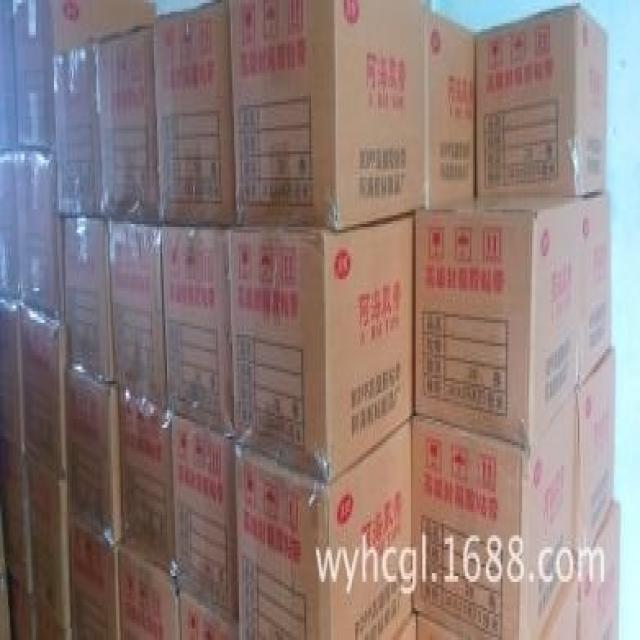box: (229, 212, 414, 483), (228, 0, 427, 230), (412, 384, 579, 640), (414, 198, 579, 451), (234, 416, 412, 640), (476, 3, 609, 198), (11, 0, 157, 151), (152, 0, 234, 224), (160, 224, 234, 436), (172, 413, 237, 631), (97, 23, 160, 224), (106, 215, 167, 410), (116, 390, 174, 582), (65, 361, 123, 544), (427, 9, 476, 209), (59, 215, 115, 387), (575, 343, 615, 576), (54, 41, 103, 215), (25, 451, 72, 628), (15, 148, 64, 317), (20, 300, 65, 480), (576, 192, 612, 384), (67, 515, 119, 640), (576, 495, 620, 637), (118, 544, 180, 640), (178, 585, 237, 640), (0, 148, 20, 300), (539, 564, 576, 637), (0, 439, 11, 640), (5, 576, 36, 640), (33, 596, 72, 640), (416, 614, 460, 640), (393, 614, 416, 640)
